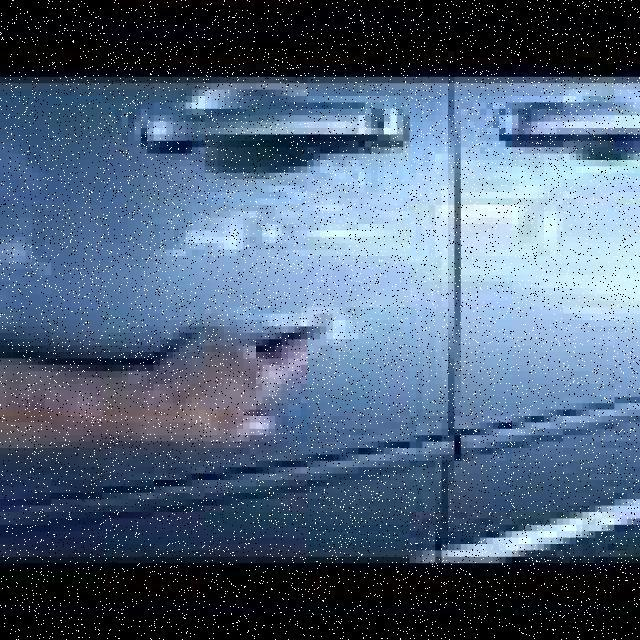doorouter-dent: (0, 83, 461, 576), (455, 71, 634, 564)
